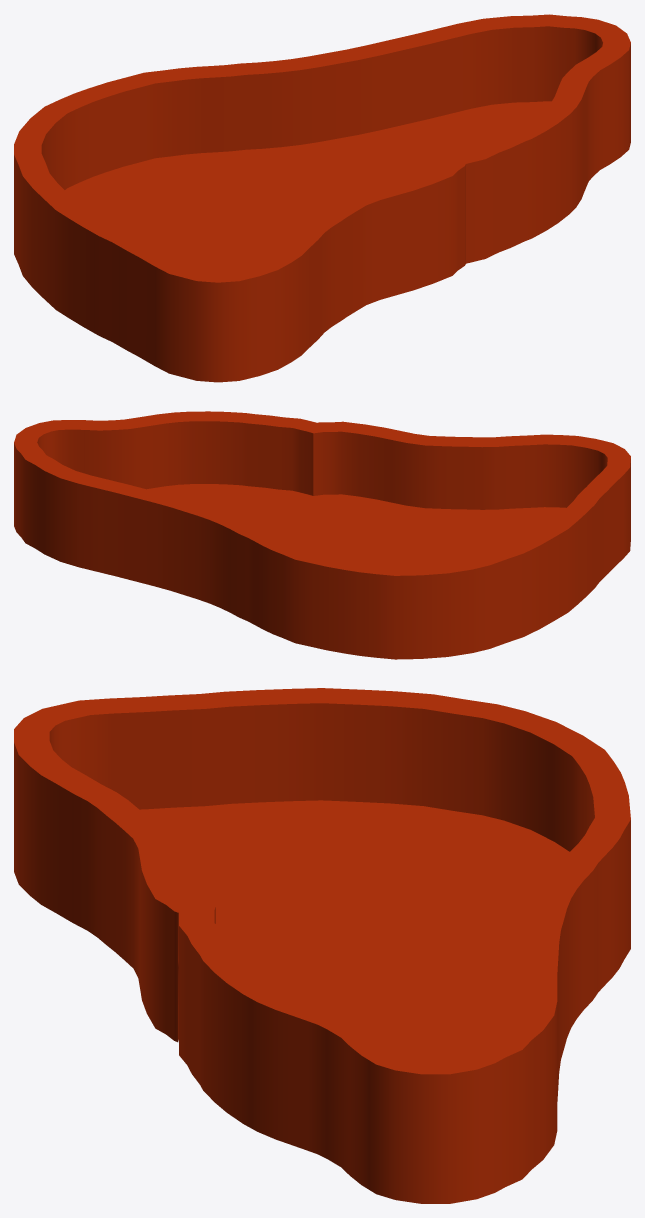
File: 2016_14_04_Extruded_Liver_No_Cuts.fbx
3 renders of one model, top to bottom at view 1: azimuth 30°, elevation 25°; view 2: azimuth 150°, elevation 25°; view 3: azimuth 270°, elevation 25°, orthographic. The views are drawn at different scales.
Visible parts, largest first — view 1: polySurface1; view 2: polySurface1; view 3: polySurface1.
Boxes of the visible parts, x1,y1,x2,y2 form: polySurface1: [14, 14, 630, 382]; polySurface1: [14, 411, 630, 659]; polySurface1: [14, 688, 630, 1203].
Size of the model in its own units: 25.56 by 4 by 17.26.
